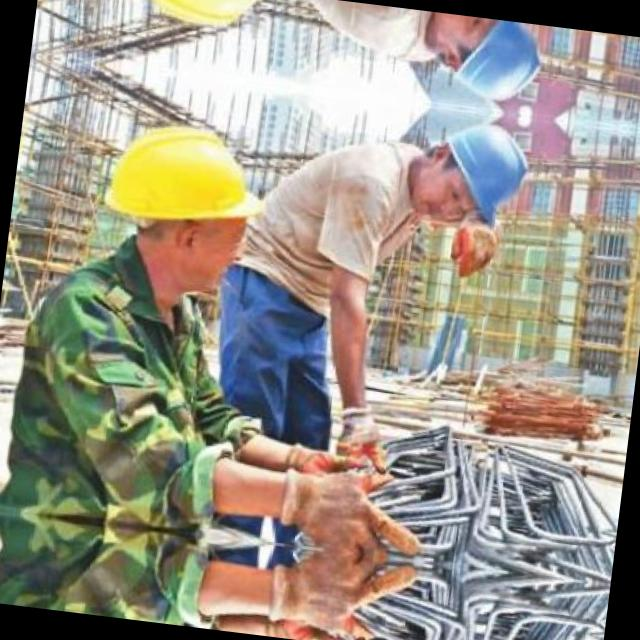helmet: (76, 100, 274, 299), (403, 110, 542, 240), (418, 11, 556, 114), (106, 0, 290, 50)
